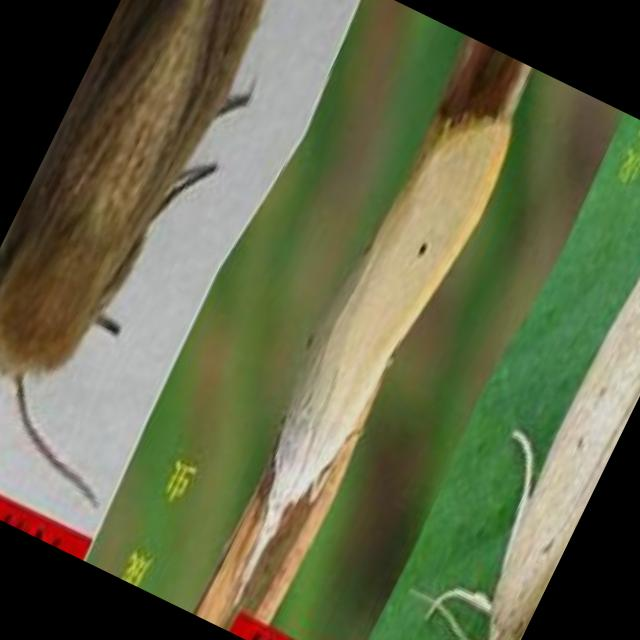stem-borer: (190, 79, 527, 627), (0, 0, 326, 491), (401, 138, 640, 640)
